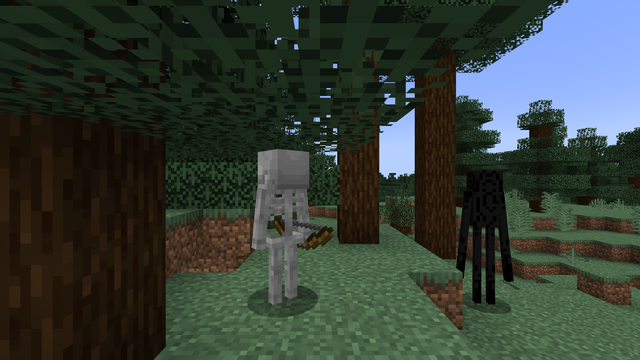endermens: (461, 166, 507, 309)
squelettes: (255, 150, 305, 309)
